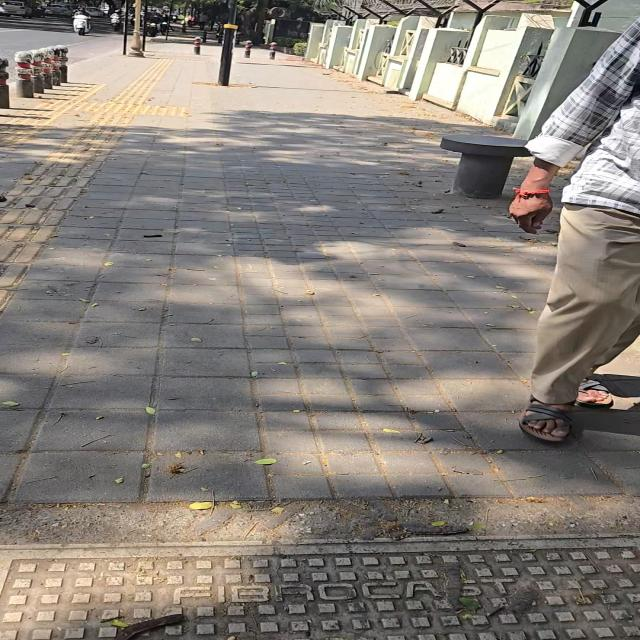obstacle: (441, 135, 530, 198), (219, 0, 237, 86), (128, 0, 143, 56), (15, 52, 33, 98), (30, 50, 43, 93), (40, 48, 52, 89), (0, 58, 9, 108), (58, 46, 68, 83), (51, 47, 60, 85), (123, 0, 129, 55), (142, 0, 148, 51), (166, 0, 173, 41), (194, 37, 202, 55), (245, 40, 252, 57), (270, 42, 276, 59), (180, 20, 187, 33), (202, 29, 207, 42)
person: (511, 19, 639, 441), (73, 10, 90, 34), (198, 13, 207, 29)
